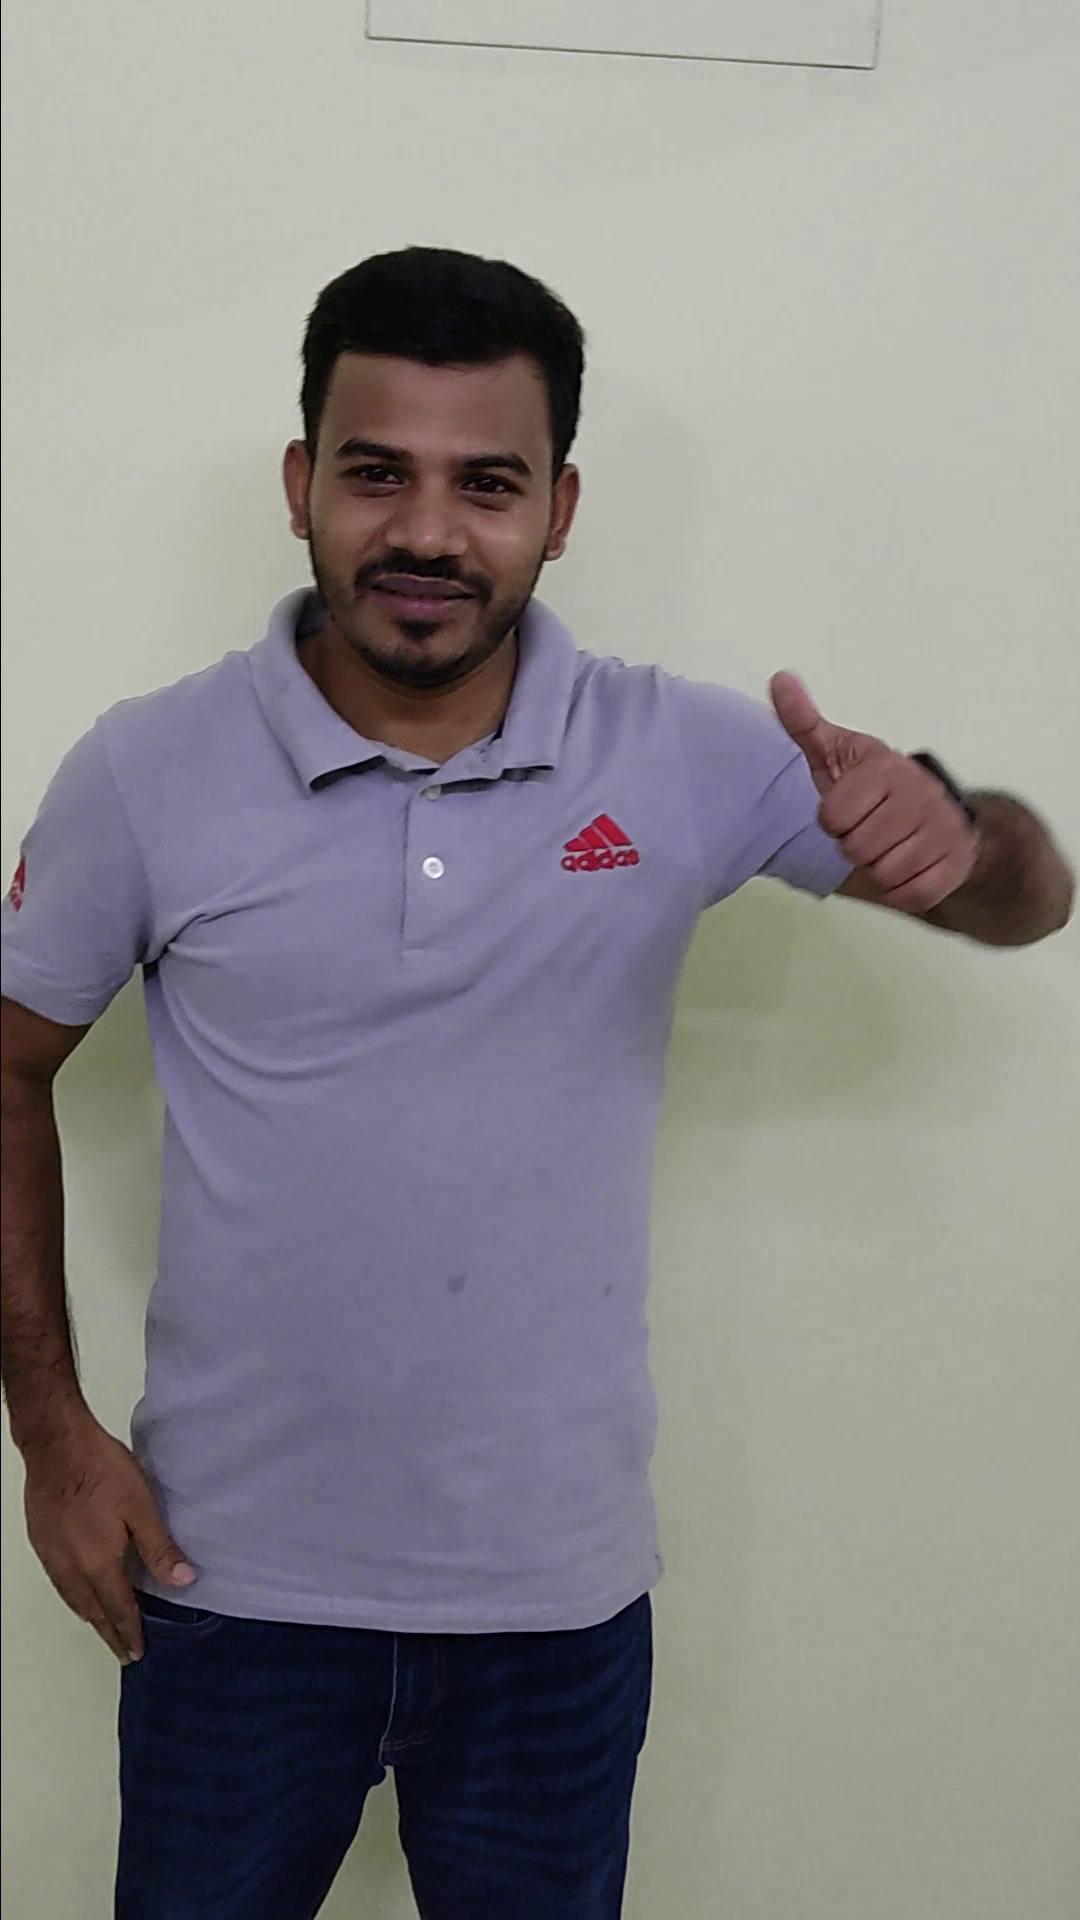Like: (758, 651, 1002, 932)
None: (3, 1395, 211, 1679)
